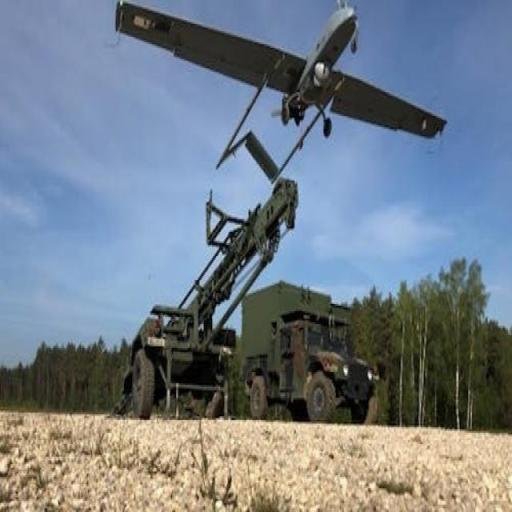uav: (110, 2, 468, 173)
